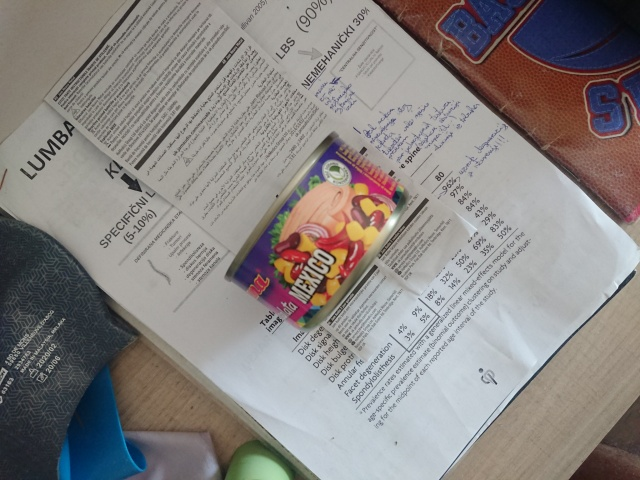Giana Tuna Salad Mexico 185g: (221, 128, 414, 335)
